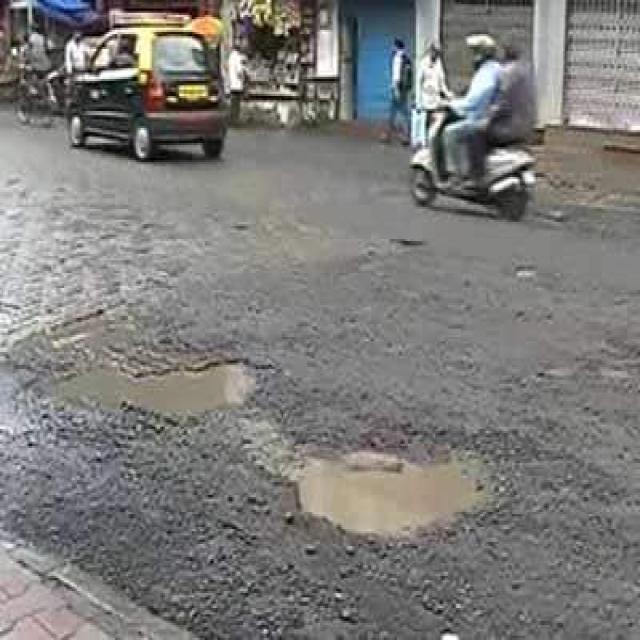buraco: (284, 426, 500, 532), (287, 432, 495, 530), (24, 350, 274, 414), (28, 352, 262, 414)
